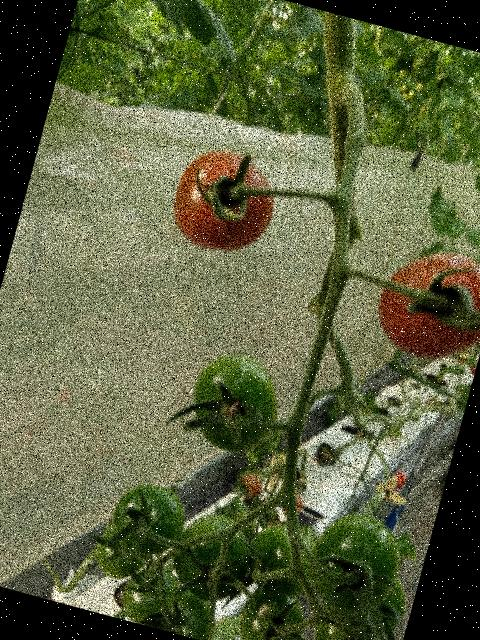l_green: (298, 503, 412, 626), (180, 345, 291, 462), (163, 505, 259, 610), (104, 475, 192, 565), (239, 517, 324, 604), (117, 559, 184, 632), (233, 583, 311, 640), (90, 524, 155, 587), (153, 584, 223, 640), (359, 570, 413, 640), (309, 602, 384, 640)
l_half_ripened: (366, 237, 480, 372), (162, 140, 286, 264)
